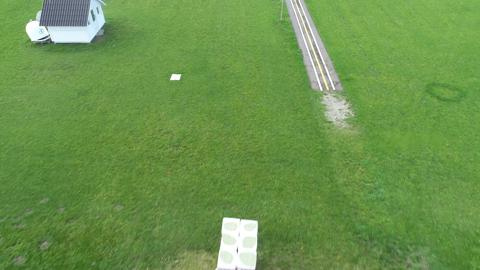RockwoolPallet: (220, 216, 257, 268)
